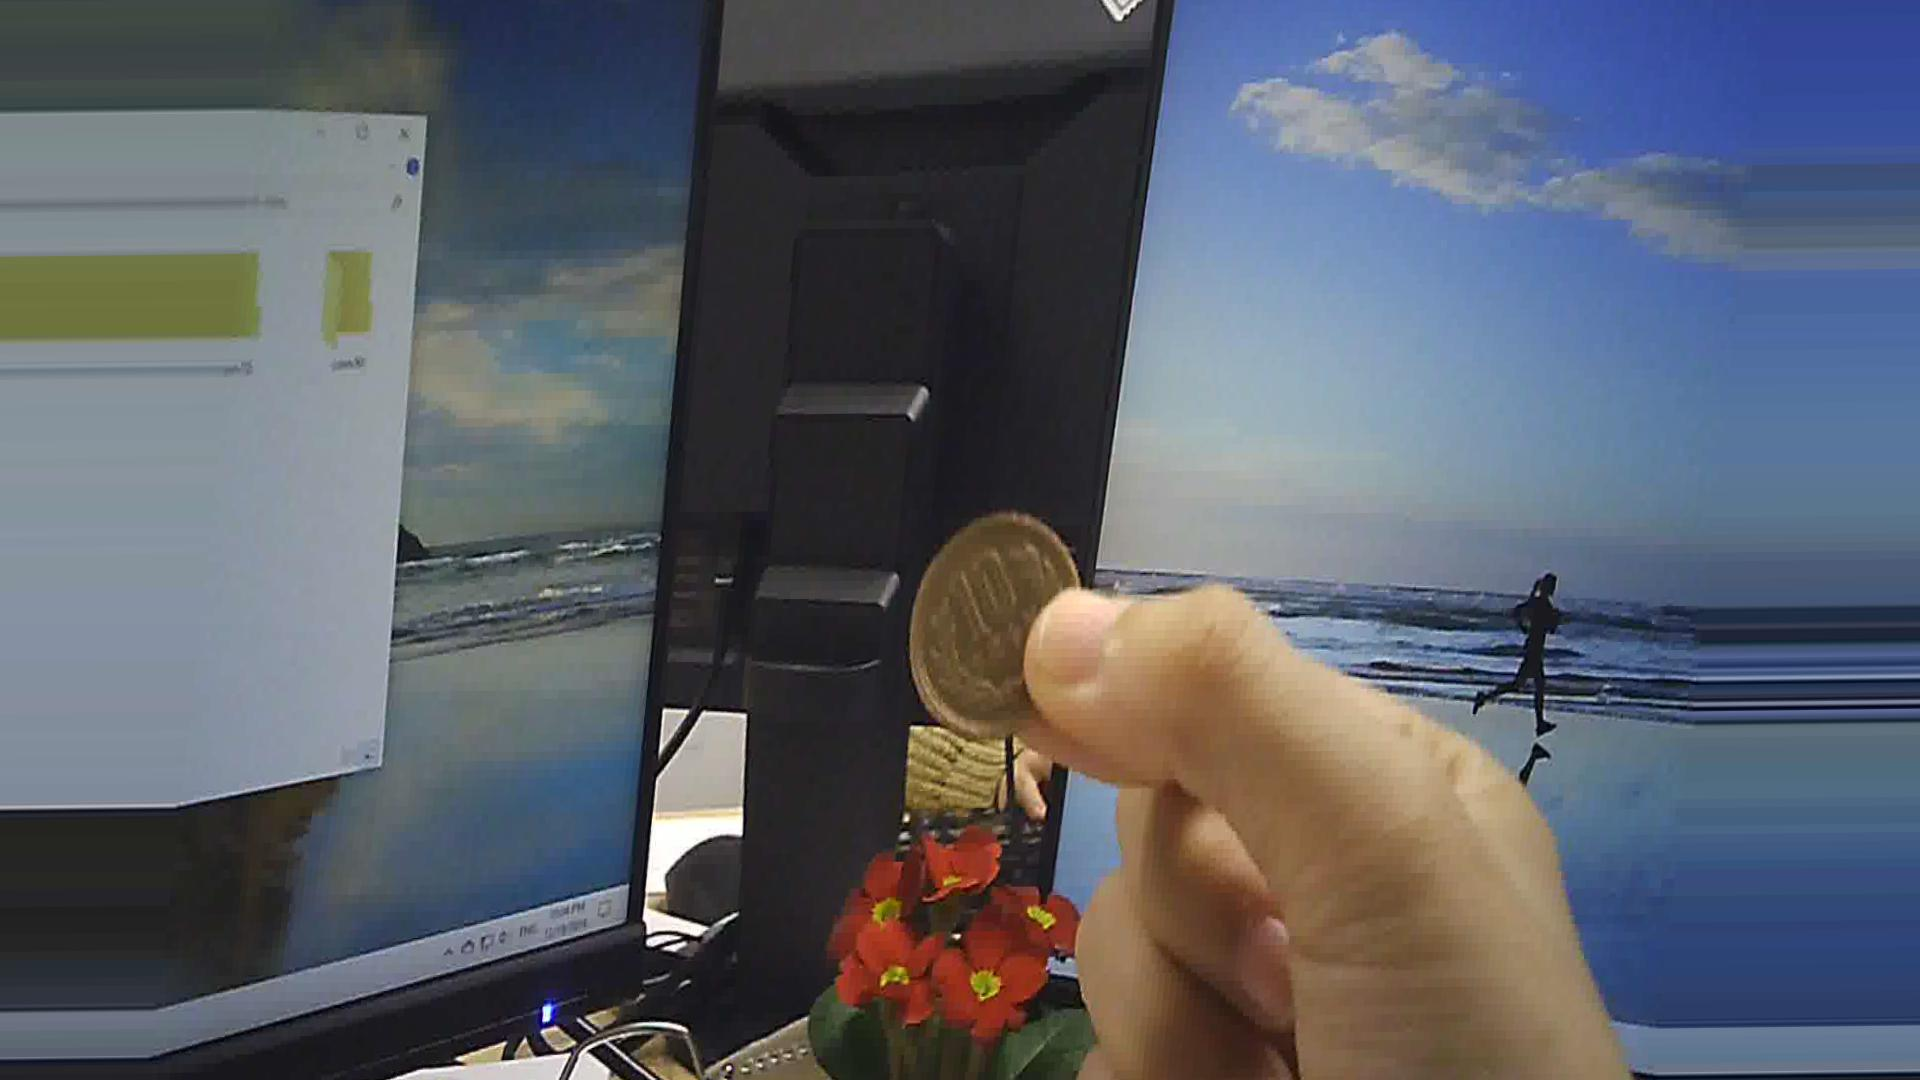10 Yen: (895, 520, 1093, 746)
